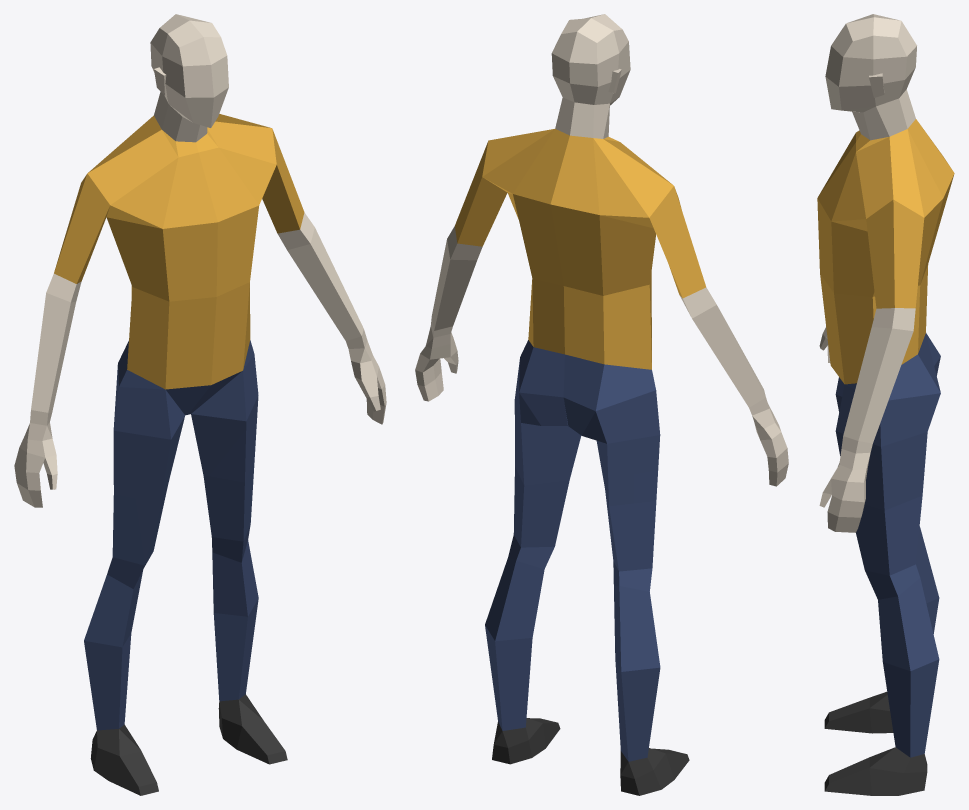
The model's file is Human.fbx.
The picture shows the model from 3 angles, left to right: view 1: azimuth 30°, elevation 25°; view 2: azimuth 150°, elevation 25°; view 3: azimuth 270°, elevation 25°; orthographic projection.
Parts seen in each view (by area): view 1: Human; view 2: Human; view 3: Human.
Part boxes in pixels (x1,y1,x2,y2): Human: (14, 14, 386, 795); Human: (415, 14, 788, 795); Human: (817, 14, 954, 795).
Size of the model in its own units: 90.52 by 178 by 29.93.
